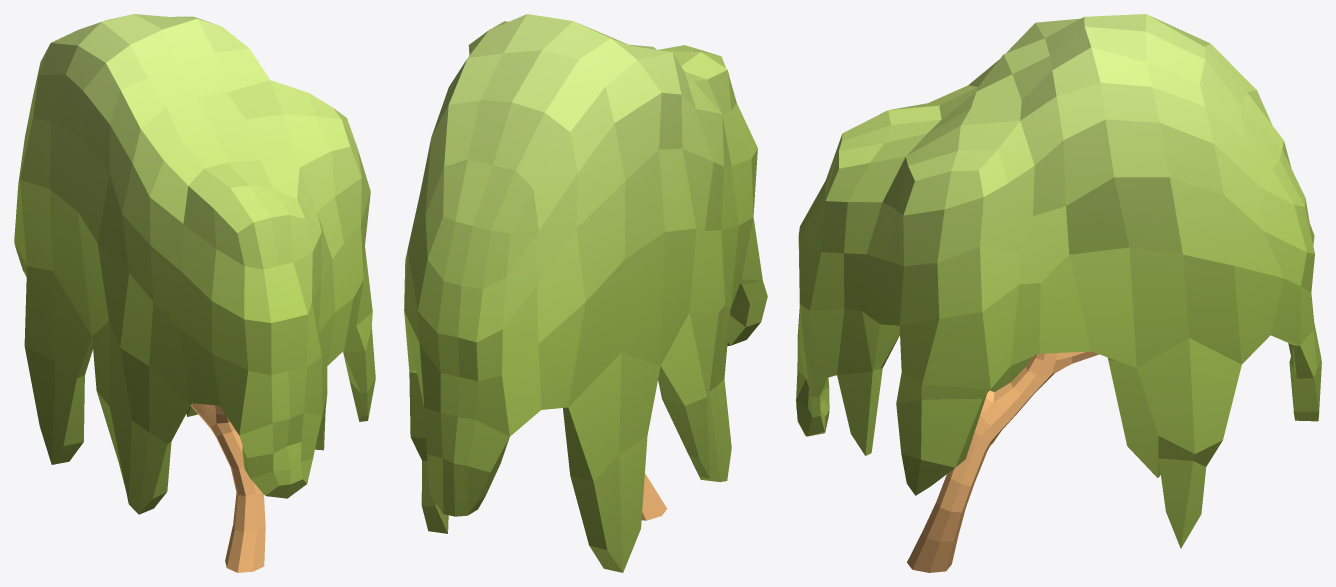
The model's file is Willow1.fbx.
3 renders of one model, left to right at view 1: azimuth 30°, elevation 25°; view 2: azimuth 150°, elevation 25°; view 3: azimuth 270°, elevation 25°, orthographic. The views are drawn at different scales.
Parts seen in each view (by area): view 1: Willow_1_Cube.010; view 2: Willow_1_Cube.010; view 3: Willow_1_Cube.010.
Boxes of the visible parts, <box> form: Willow_1_Cube.010: <box>14,14,375,572</box>; Willow_1_Cube.010: <box>404,14,767,572</box>; Willow_1_Cube.010: <box>796,14,1321,572</box>.
Size of the model in its own units: 145 by 285 by 255.
